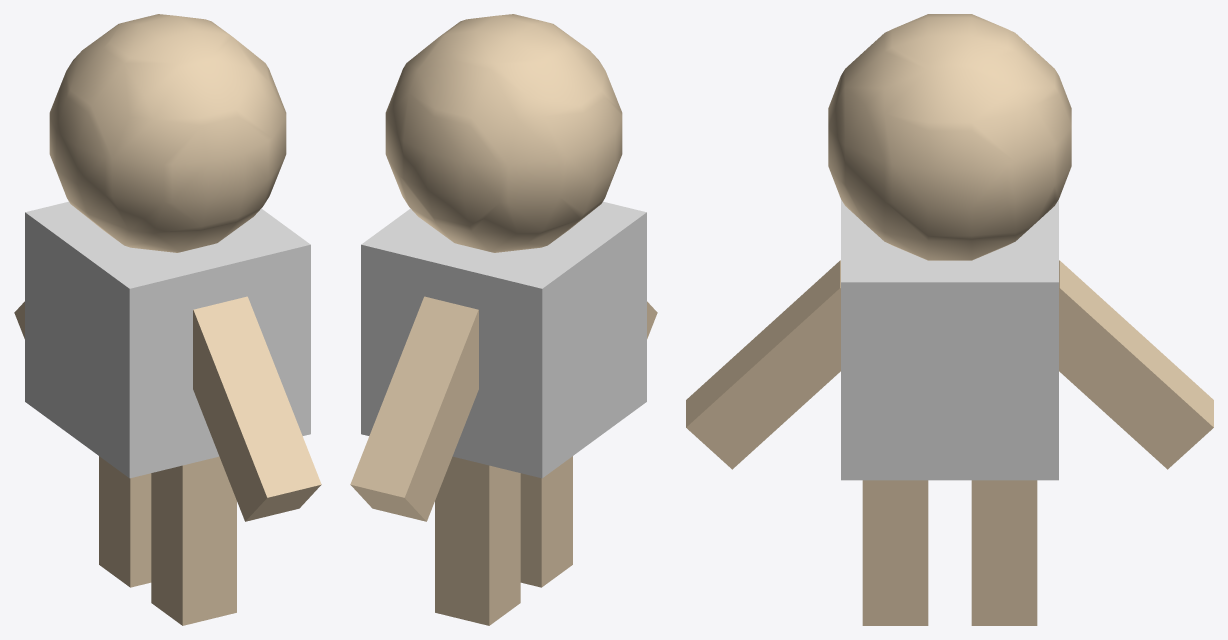
The model's file is whoareyou.fbx.
3 views of the same model, side by side, from view 1: azimuth 30°, elevation 25°; view 2: azimuth 150°, elevation 25°; view 3: azimuth 270°, elevation 25° (orthographic). The views are drawn at different scales.
Visible parts, largest first — view 1: Cube, Mball, 立方體.001, 立方體, 立方體.002; view 2: Cube, Mball, 立方體.003, 立方體.002, 立方體; view 3: Cube, Mball, 立方體.001, 立方體.003, 立方體, 立方體.002.
Part boxes in pixels (x1,y1,x2,y2): Cube: (25, 201, 310, 478); Mball: (49, 14, 286, 252); 立方體.001: (193, 296, 321, 521); 立方體: (151, 456, 236, 625); 立方體.002: (99, 456, 151, 587); Cube: (361, 201, 646, 478); Mball: (385, 14, 622, 252); 立方體.003: (350, 296, 478, 521); 立方體.002: (435, 456, 520, 625); 立方體: (520, 456, 572, 587); Cube: (841, 199, 1058, 480); Mball: (828, 14, 1071, 260); 立方體.001: (686, 260, 840, 469); 立方體.003: (1059, 260, 1213, 469); 立方體: (862, 480, 928, 625); 立方體.002: (971, 480, 1037, 625).
Bounding box in the file's own units: 223 × 592 × 484.
